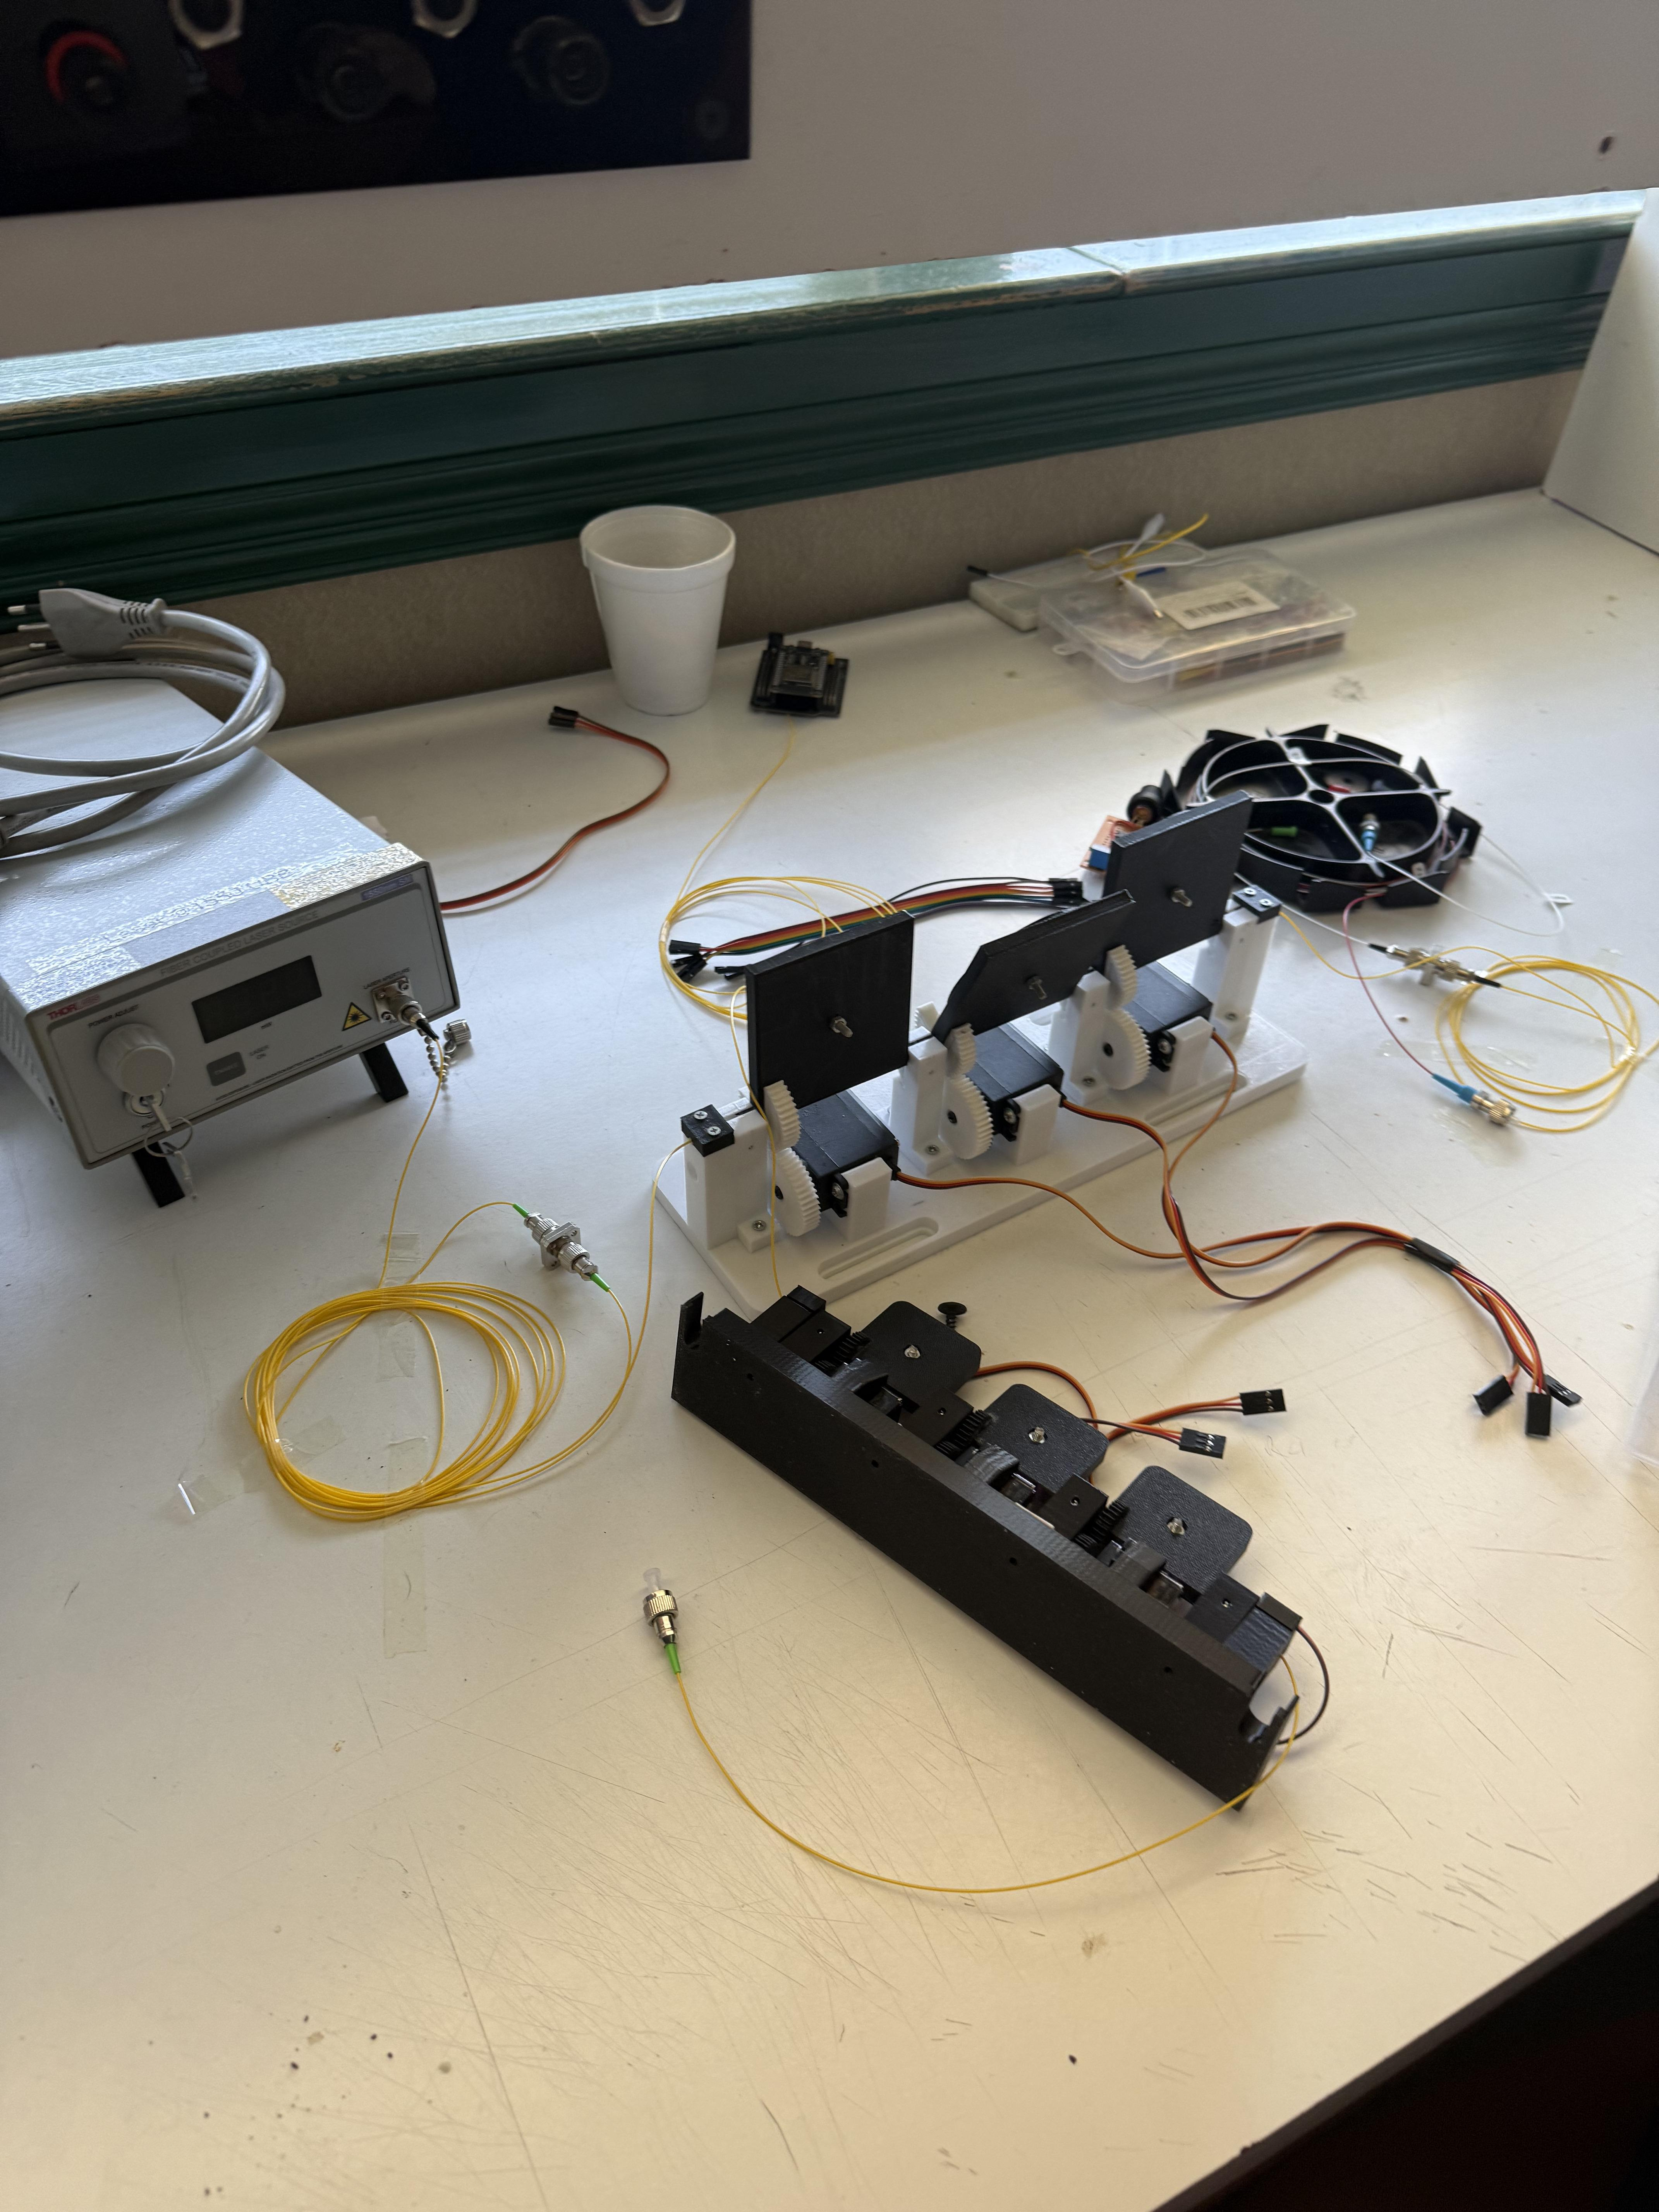laser: (0, 545, 535, 1254)
paddle_polarization_controller: (647, 1193, 1425, 1878), (620, 716, 1391, 1329)
